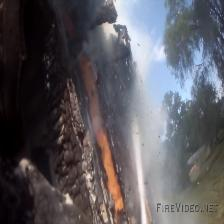smoke: (51, 0, 162, 224)
